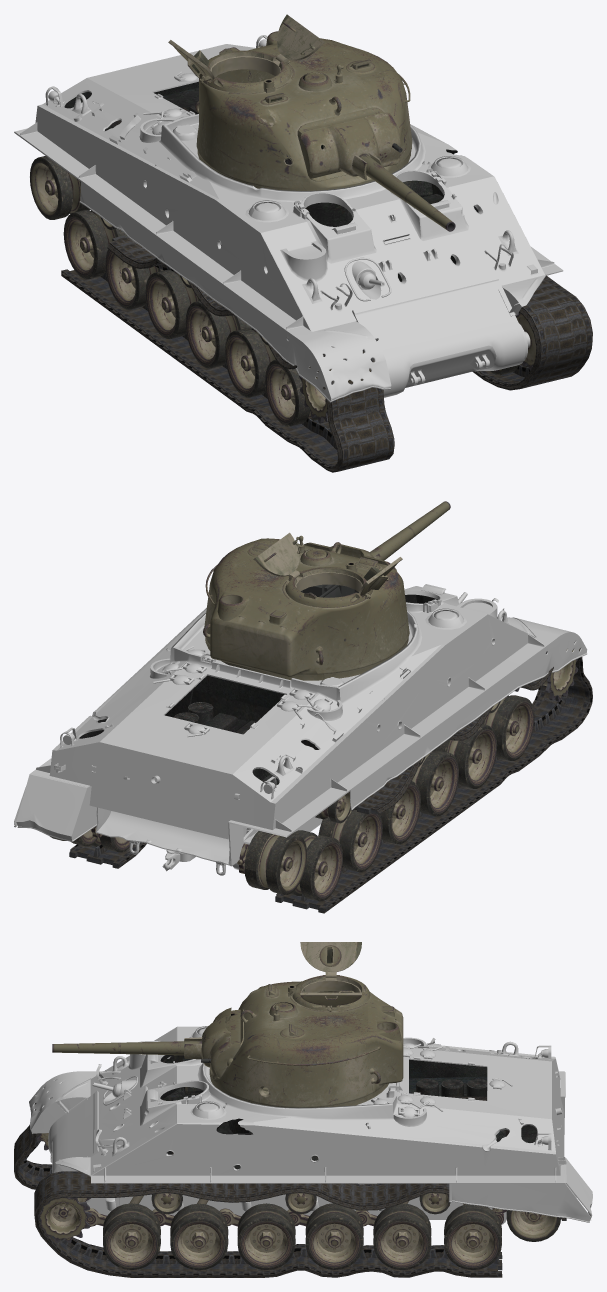
File: M4A2E4_CRASHED.fbx
3 renders of one model, top to bottom at view 1: azimuth 30°, elevation 25°; view 2: azimuth 150°, elevation 25°; view 3: azimuth 270°, elevation 25°, orthographic. The views are drawn at different scales.
Parts seen in each view (by area): view 1: american\A44_M4A2E4\crash\l\Hull.pri~5~4, american\A44_M4A2E4\crash\l\Turret_01.pri~5~6, american\A44_M4A2E4\crash\l\Hull.pri~5~5, american\A44_M4A2E4\crash\l\Chassis.pri~5~2, american\A44_M4A2E4\crash\l\Gun_01.pri~5~7, american\A44_M4A2E4\crash\l\Chassis.pri~5~1, american\A44_M4A2E4\crash\l\Hull.pri~5~3; view 2: american\A44_M4A2E4\crash\l\Hull.pri~5~4, american\A44_M4A2E4\crash\l\Turret_01.pri~5~6, american\A44_M4A2E4\crash\l\Hull.pri~5~5, american\A44_M4A2E4\crash\l\Chassis.pri~5~2, american\A44_M4A2E4\crash\l\Hull.pri~5~3, american\A44_M4A2E4\crash\l\Gun_01.pri~5~7, american\A44_M4A2E4\crash\l\Chassis.pri~5~1; view 3: american\A44_M4A2E4\crash\l\Hull.pri~5~4, american\A44_M4A2E4\crash\l\Hull.pri~5~5, american\A44_M4A2E4\crash\l\Turret_01.pri~5~6, american\A44_M4A2E4\crash\l\Chassis.pri~5~1, american\A44_M4A2E4\crash\l\Hull.pri~5~3, american\A44_M4A2E4\crash\l\Gun_01.pri~5~7, american\A44_M4A2E4\crash\l\Chassis.pri~5~2.
Boxes of the visible parts, x1,y1,x2,y2 form: american\A44_M4A2E4\crash\l\Hull.pri~5~4: (14,35,563,402); american\A44_M4A2E4\crash\l\Turret_01.pri~5~6: (168,14,412,190); american\A44_M4A2E4\crash\l\Hull.pri~5~5: (30,156,536,426); american\A44_M4A2E4\crash\l\Chassis.pri~5~2: (61,235,394,472); american\A44_M4A2E4\crash\l\Gun_01.pri~5~7: (300,112,455,231); american\A44_M4A2E4\crash\l\Chassis.pri~5~1: (472,275,592,390); american\A44_M4A2E4\crash\l\Hull.pri~5~3: (64,81,478,285); american\A44_M4A2E4\crash\l\Hull.pri~5~4: (14,584,587,875); american\A44_M4A2E4\crash\l\Turret_01.pri~5~6: (203,532,409,680); american\A44_M4A2E4\crash\l\Hull.pri~5~5: (49,649,578,901); american\A44_M4A2E4\crash\l\Chassis.pri~5~2: (275,641,592,913); american\A44_M4A2E4\crash\l\Hull.pri~5~3: (79,594,437,785); american\A44_M4A2E4\crash\l\Gun_01.pri~5~7: (301,501,450,597); american\A44_M4A2E4\crash\l\Chassis.pri~5~1: (69,842,146,868); american\A44_M4A2E4\crash\l\Hull.pri~5~4: (29,1026,592,1224); american\A44_M4A2E4\crash\l\Hull.pri~5~5: (36,1133,560,1270); american\A44_M4A2E4\crash\l\Turret_01.pri~5~6: (209,942,403,1107); american\A44_M4A2E4\crash\l\Chassis.pri~5~1: (34,1171,566,1277); american\A44_M4A2E4\crash\l\Hull.pri~5~3: (160,1055,537,1169); american\A44_M4A2E4\crash\l\Gun_01.pri~5~7: (52,1007,231,1079); american\A44_M4A2E4\crash\l\Chassis.pri~5~2: (14,1103,52,1189).
Bounding box in the file's own units: 3.07 × 3.04 × 6.62.
